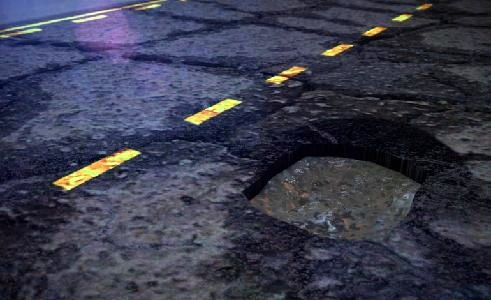pothole: (239, 142, 426, 244)
